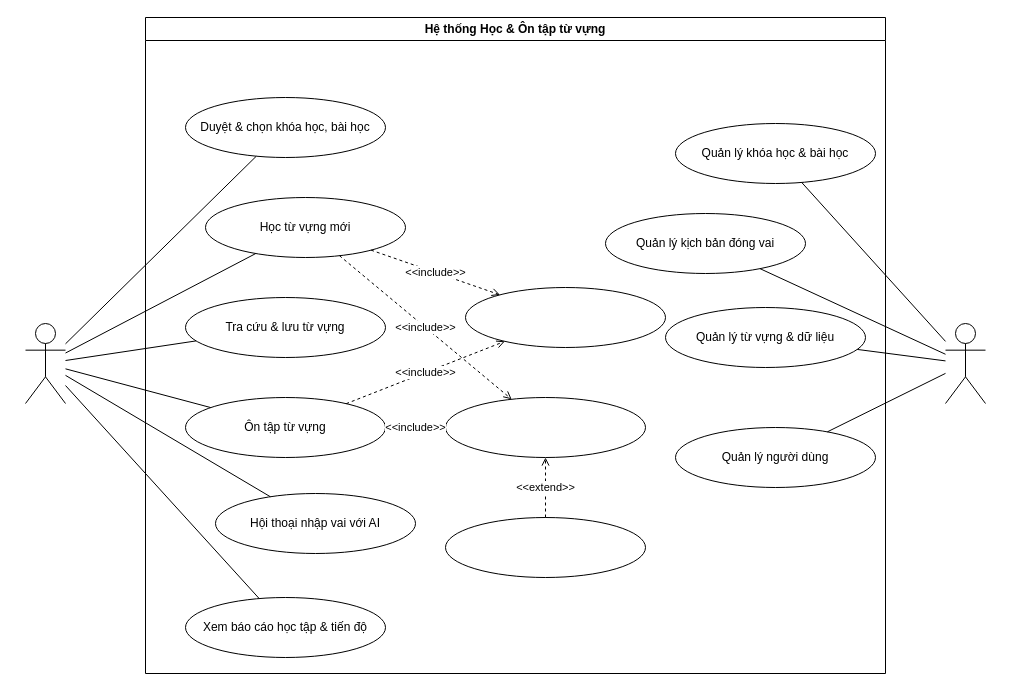
The diagram is 1017 pixels wide and 691 high, and some of its shapes have lost their labels. The centre of each missing label's shape, as x and y in pixels:
Lưu nhật ký học & ôn tập: [545,427]
Lập lịch ôn tập: [565,317]
Người học: [45,363]
Quản trị viên: [965,363]
Tối ưu hóa lộ trình ôn tập: [545,547]
